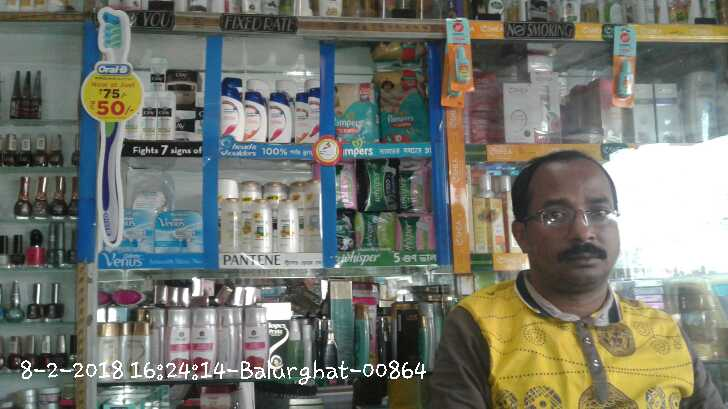venus: (154, 211, 202, 253), (112, 208, 154, 253)
